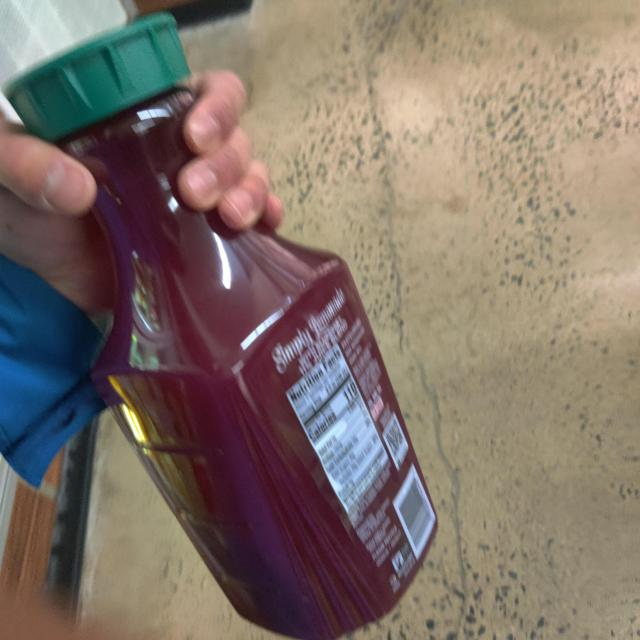Juice: (3, 8, 499, 640)
